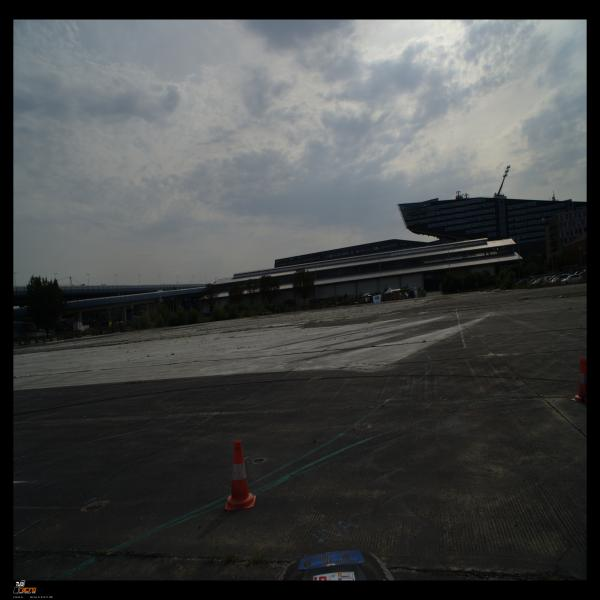orange_cone: (224, 440, 256, 510), (570, 357, 587, 403)
